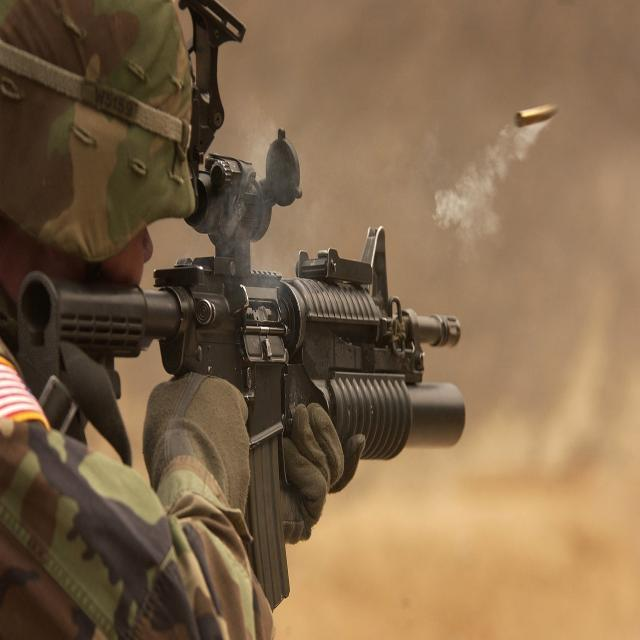Gun: (16, 110, 465, 604)
